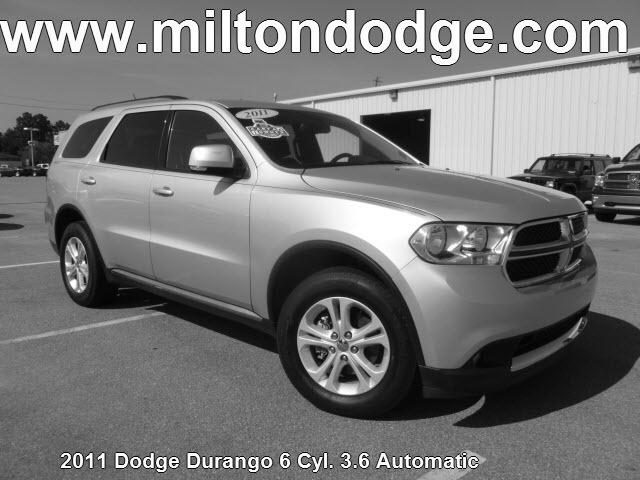car: (41, 92, 603, 425)
